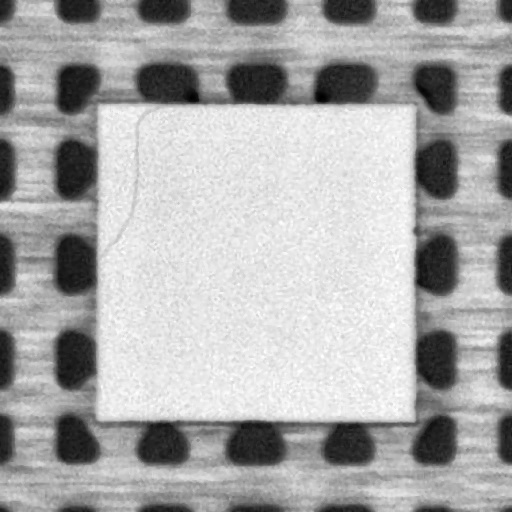DIE_CRACK: (97, 104, 160, 258)
